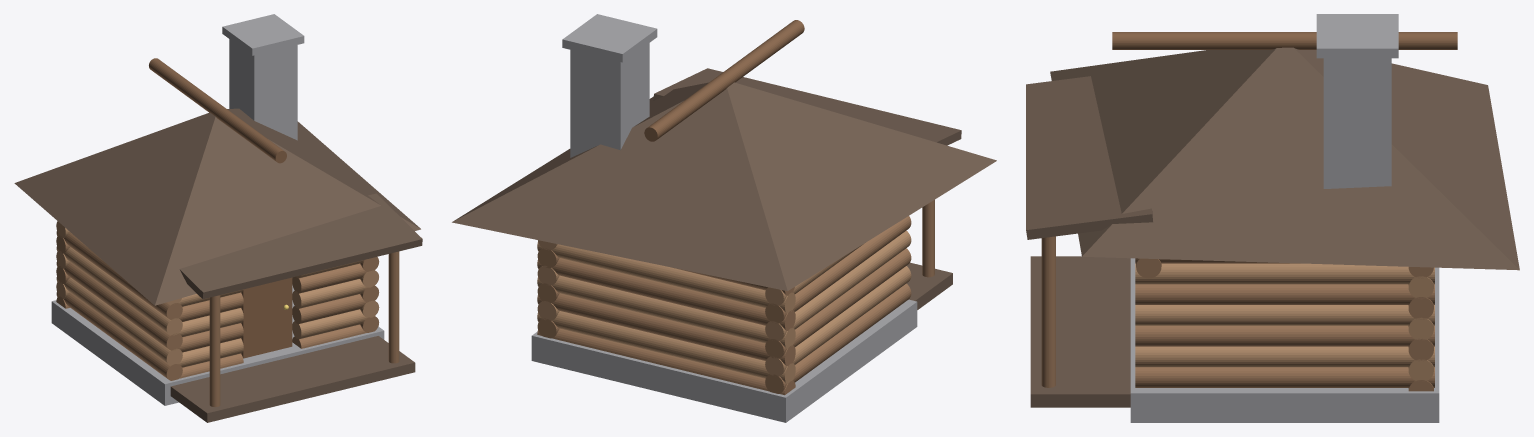
The model's file is cabin.glb.
3 views of the same model, side by side, from view 1: azimuth 30°, elevation 25°; view 2: azimuth 150°, elevation 25°; view 3: azimuth 270°, elevation 25° (orthographic). The views are drawn at different scales.
Visible parts, largest first — view 1: Cabin_RoofMain, Cabin_PorchAwning, Cabin_PorchDeck, Cabin_StoneChimney, Cabin_Foundation, Cabin_Door, Cabin_RoofRidge, Cabin_ChimneyCap, Cabin_Log_L_3, Cabin_Log_L_0, Cabin_Log_L_2, Cabin_Log_L_1 (+13 smaller); view 2: Cabin_RoofMain, Cabin_Foundation, Cabin_StoneChimney, Cabin_Log_B_3, Cabin_Log_B_4, Cabin_Log_B_2, Cabin_Log_B_1, Cabin_Log_B_5, Cabin_PorchAwning, Cabin_RoofRidge, Cabin_ChimneyCap, Cabin_Log_B_0 (+8 smaller); view 3: Cabin_RoofMain, Cabin_PorchDeck, Cabin_PorchAwning, Cabin_Foundation, Cabin_StoneChimney, Cabin_Log_R_1, Cabin_Log_R_2, Cabin_Log_R_0, Cabin_Log_R_4, Cabin_Log_R_3, Cabin_Log_R_5, Cabin_RoofRidge (+7 smaller).
Part boxes in pixels (<box>): Cabin_RoofMain: <box>14,108,420,305</box>; Cabin_PorchAwning: <box>179,193,422,299</box>; Cabin_PorchDeck: <box>170,336,415,422</box>; Cabin_StoneChimney: <box>229,39,297,140</box>; Cabin_Foundation: <box>51,285,384,405</box>; Cabin_Door: <box>241,277,292,358</box>; Cabin_RoofRidge: <box>149,58,286,163</box>; Cabin_ChimneyCap: <box>222,14,304,55</box>; Cabin_Log_L_3: <box>56,246,182,335</box>; Cabin_Log_L_0: <box>56,292,182,380</box>; Cabin_Log_L_2: <box>56,261,182,350</box>; Cabin_Log_L_1: <box>56,277,182,365</box>; Cabin_RoofMain: <box>452,82,996,291</box>; Cabin_Foundation: <box>531,299,917,422</box>; Cabin_StoneChimney: <box>570,43,649,157</box>; Cabin_Log_B_3: <box>537,275,795,348</box>; Cabin_Log_B_4: <box>537,258,795,330</box>; Cabin_Log_B_2: <box>537,293,795,366</box>; Cabin_Log_B_1: <box>537,311,795,383</box>; Cabin_Log_B_5: <box>537,242,795,313</box>; Cabin_PorchAwning: <box>653,68,961,145</box>; Cabin_RoofRidge: <box>644,20,804,141</box>; Cabin_ChimneyCap: <box>562,14,657,62</box>; Cabin_Log_B_0: <box>537,328,795,395</box>; Cabin_RoofMain: <box>1050,47,1519,270</box>; Cabin_PorchDeck: <box>1030,256,1130,407</box>; Cabin_PorchAwning: <box>1026,76,1152,239</box>; Cabin_Foundation: <box>1130,258,1439,422</box>; Cabin_StoneChimney: <box>1323,58,1391,188</box>; Cabin_Log_R_1: <box>1135,346,1434,367</box>; Cabin_Log_R_2: <box>1135,325,1434,346</box>; Cabin_Log_R_0: <box>1135,367,1434,387</box>; Cabin_Log_R_4: <box>1135,284,1434,304</box>; Cabin_Log_R_3: <box>1135,305,1434,325</box>; Cabin_Log_R_5: <box>1135,263,1434,284</box>; Cabin_RoofRidge: <box>1112,32,1457,49</box>.
Bounding box in the file's own units: 5.17 × 4.46 × 5.44.
